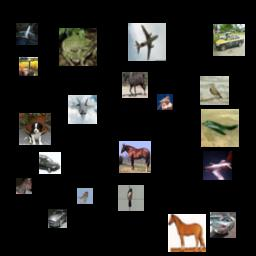airplane: (201, 109, 239, 147), (128, 23, 166, 61), (68, 95, 97, 124), (203, 151, 232, 180), (16, 23, 38, 45)
automobile: (213, 24, 245, 56), (210, 212, 236, 238), (39, 152, 61, 174), (48, 209, 67, 228)
bird: (200, 76, 229, 105), (118, 185, 144, 211), (19, 57, 38, 76), (77, 188, 93, 204), (157, 94, 173, 110)
cat: (16, 178, 32, 194)
dog: (19, 113, 51, 145)
frog: (59, 28, 97, 66)
